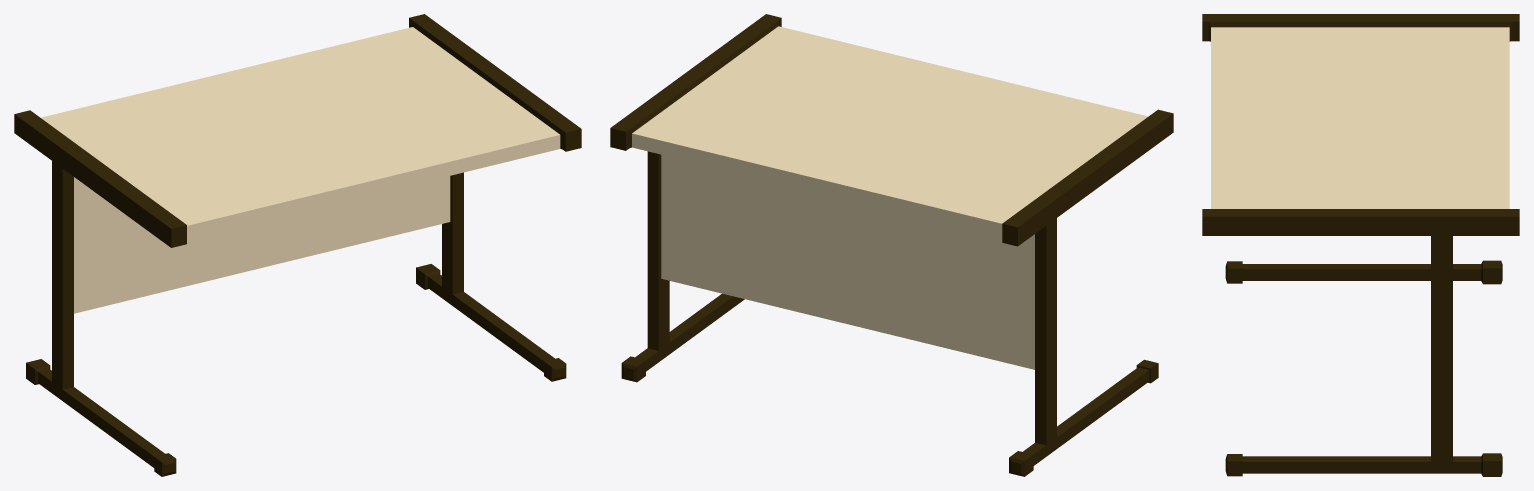
File: MesaProfessor.fbx
3 views of the same model, side by side, from view 1: azimuth 30°, elevation 25°; view 2: azimuth 150°, elevation 25°; view 3: azimuth 270°, elevation 25° (orthographic).
Parts seen in each view (by area): view 1: Cube; view 2: Cube; view 3: Cube.
Boxes of the visible parts, x1,y1,x2,y2 form: Cube: (14,14,581,476); Cube: (610,14,1173,476); Cube: (1202,14,1519,476).
Bounding box in the file's own units: 627 × 377 × 415.
Materials: 1 (1 with a texture image).
